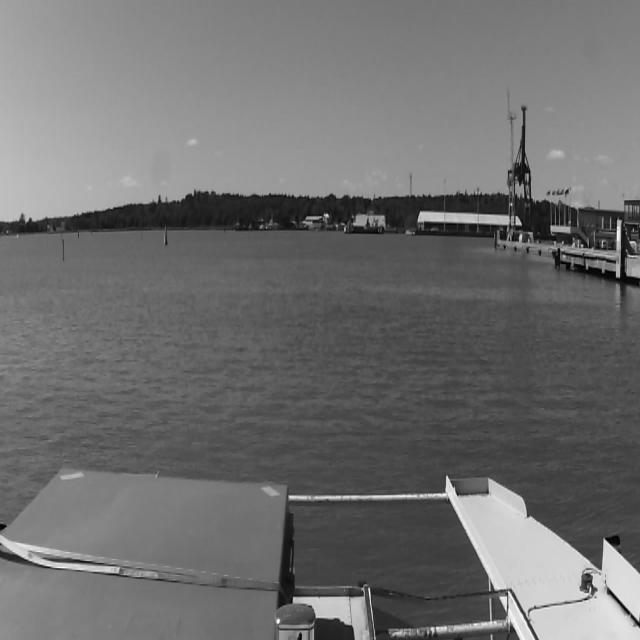buoy: (162, 225, 168, 247), (62, 238, 64, 260), (77, 228, 79, 238)
ship: (233, 218, 241, 229), (247, 218, 255, 229), (259, 220, 265, 230)
